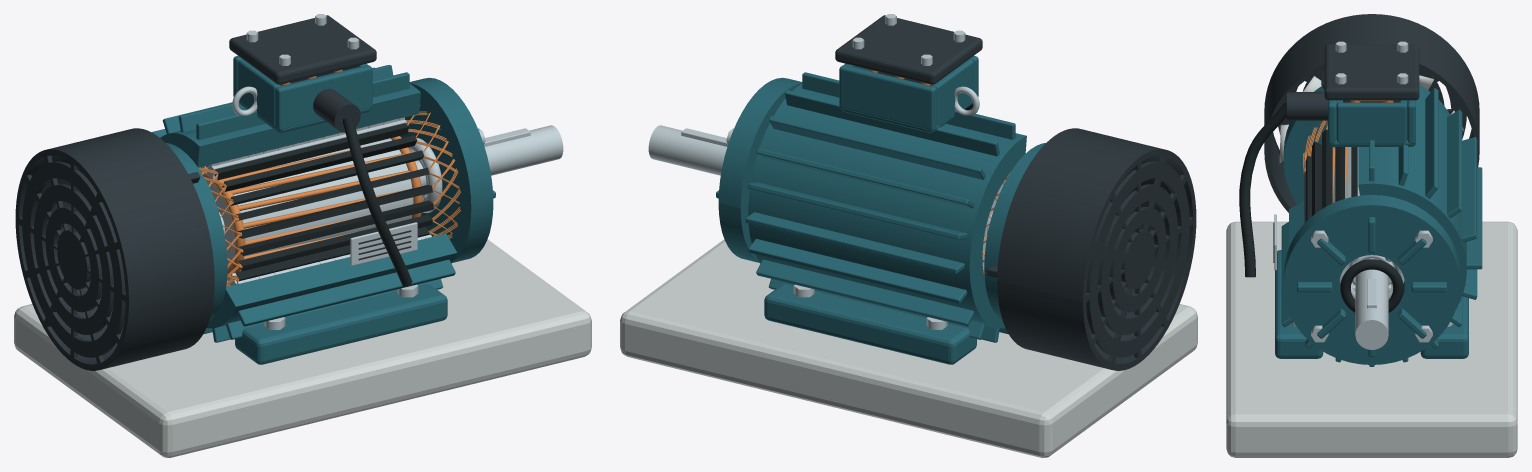
Rendered from motor.glb.
3 renders of one model, left to right at view 1: azimuth 30°, elevation 25°; view 2: azimuth 150°, elevation 25°; view 3: azimuth 270°, elevation 25°, orthographic. The views are drawn at different scales.
Parts seen in each view (by area): view 1: motor_plinth, fan_cover_sheet_wall, stator_housing, end_shield.001, motor_mounting_foot, terminal_lid, fan_cover_back_plate.003, rotor_core, fan_cover_back_plate.002, fan_cover_back_plate.004, cooling_fin.006, terminal_wall (+32 smaller); view 2: motor_plinth, stator_housing, fan_cover_sheet_wall, motor_mounting_foot.001, terminal_lid, fan_cover_back_plate.003, end_shield.001, terminal_wall.001, fan_cover_back_plate.002, fan_cover_back_plate.004, cooling_fin.012, cooling_fin.013 (+13 smaller); view 3: motor_plinth, end_shield.001, fan_cover_sheet_wall, stator_housing, terminal_lid, terminal_wall.003, output_shaft, end_shield, motor_cable, cooling_fin.001, motor_mounting_foot, cooling_fin.002 (+27 smaller).
Boxes of the visible parts, left/top/right/bottom form: motor_plinth: left=14, top=239, right=591, bottom=457; fan_cover_sheet_wall: left=24, top=128, right=214, bottom=368; stator_housing: left=160, top=84, right=457, bottom=328; end_shield.001: left=400, top=77, right=493, bottom=262; motor_mounting_foot: left=235, top=284, right=447, bottom=364; terminal_lid: left=229, top=15, right=376, bottom=84; fan_cover_back_plate.003: left=22, top=161, right=125, bottom=357; rotor_core: left=206, top=138, right=413, bottom=269; fan_cover_back_plate.002: left=34, top=184, right=113, bottom=334; fan_cover_back_plate.004: left=15, top=148, right=132, bottom=370; cooling_fin.006: left=237, top=259, right=455, bottom=326; terminal_wall: left=275, top=65, right=372, bottom=130; motor_plinth: left=620, top=239, right=1197, bottom=457; stator_housing: left=748, top=84, right=1026, bottom=328; fan_cover_sheet_wall: left=997, top=128, right=1187, bottom=368; motor_mounting_foot.001: left=764, top=284, right=976, bottom=364; terminal_lid: left=835, top=15, right=982, bottom=84; fan_cover_back_plate.003: left=1086, top=161, right=1189, bottom=357; end_shield.001: left=718, top=77, right=802, bottom=262; terminal_wall.001: left=839, top=65, right=936, bottom=130; fan_cover_back_plate.002: left=1098, top=184, right=1177, bottom=334; fan_cover_back_plate.004: left=1079, top=148, right=1196, bottom=370; cooling_fin.012: left=756, top=259, right=974, bottom=326; cooling_fin.013: left=748, top=239, right=967, bottom=303; motor_plinth: left=1226, top=221, right=1517, bottom=457; end_shield.001: left=1283, top=195, right=1460, bottom=364; fan_cover_sheet_wall: left=1264, top=15, right=1479, bottom=212; stator_housing: left=1289, top=93, right=1466, bottom=308; terminal_lid: left=1324, top=44, right=1419, bottom=100; terminal_wall.003: left=1336, top=102, right=1407, bottom=143; output_shaft: left=1355, top=258, right=1388, bottom=349; end_shield: left=1283, top=84, right=1449, bottom=204; motor_cable: left=1239, top=103, right=1286, bottom=277; cooling_fin.001: left=1461, top=137, right=1477, bottom=242; motor_mounting_foot: left=1275, top=250, right=1323, bottom=358; cooling_fin.002: left=1447, top=109, right=1462, bottom=218.
Bounding box in the file's own units: 3.35 × 2.11 × 1.85.
